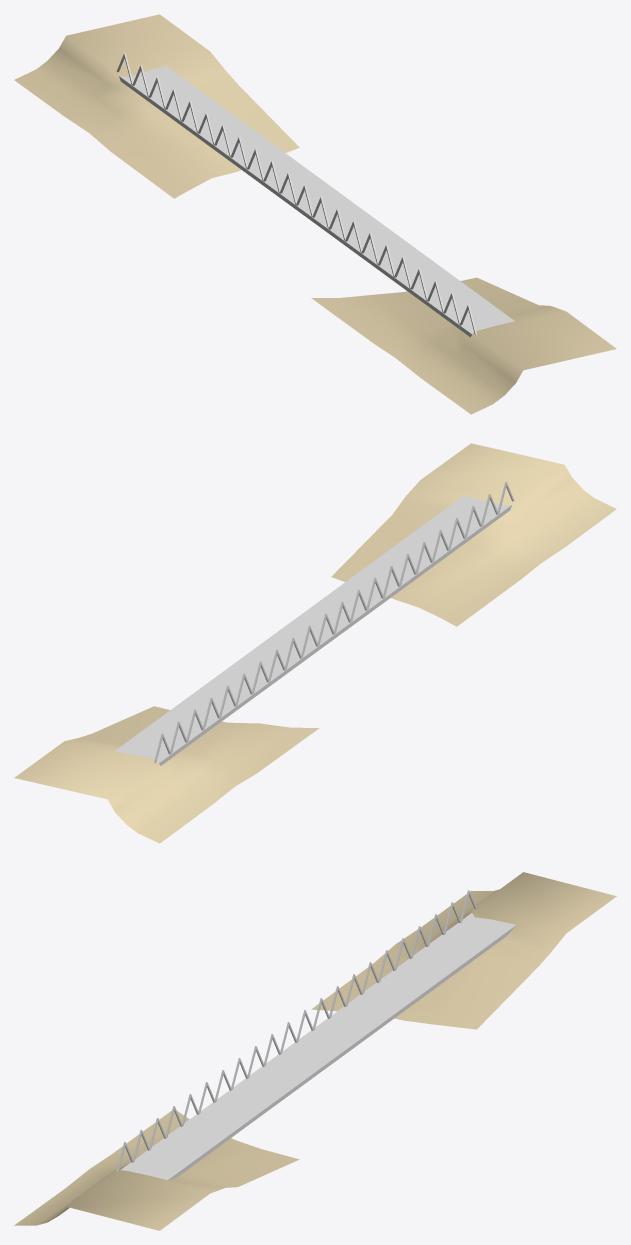
Rendered from Ground_03.fbx.
The picture shows the model from 3 angles, top to bottom: view 1: azimuth 30°, elevation 25°; view 2: azimuth 150°, elevation 25°; view 3: azimuth 330°, elevation 25°; orthographic projection.
Parts seen in each view (by area): view 1: Ground_03; view 2: Ground_03; view 3: Ground_03.
Boxes of the visible parts, x1=… form: Ground_03: x1=14, y1=14, x2=616, y2=414; Ground_03: x1=14, y1=443, x2=616, y2=843; Ground_03: x1=14, y1=872, x2=616, y2=1230.
Size of the model in its own units: 73.63 by 28.78 by 400.
